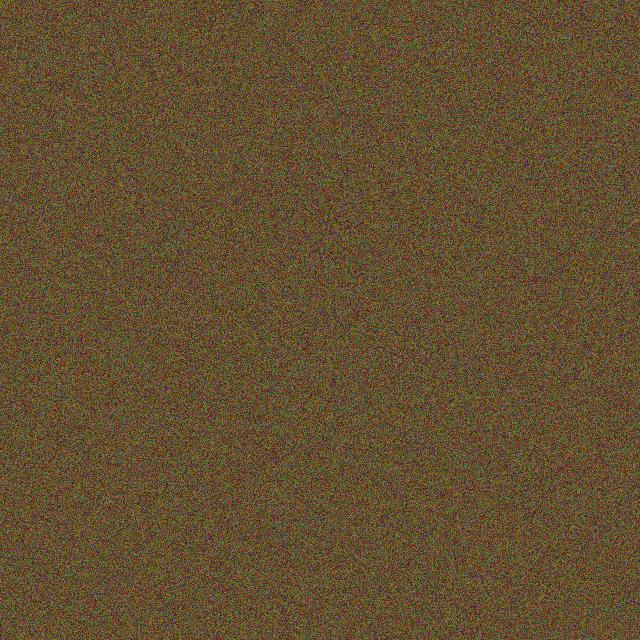metal_debris: (119, 206, 159, 309)
